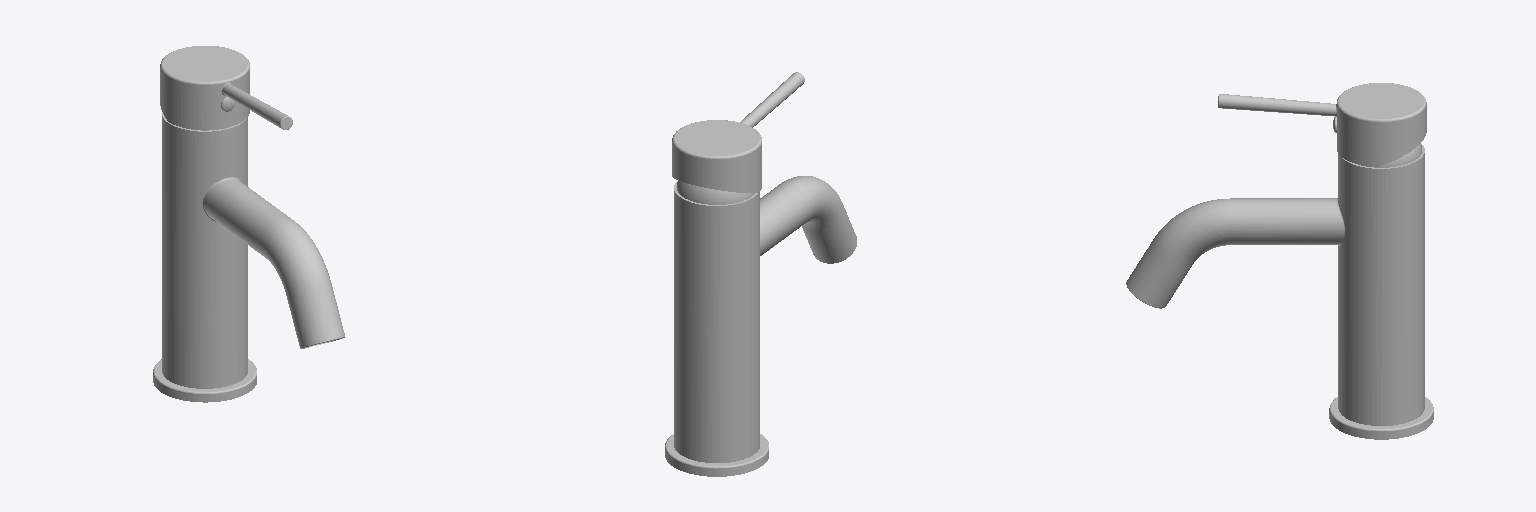
The picture shows the model from 3 angles: view 1: azimuth 30°, elevation 25°; view 2: azimuth 150°, elevation 25°; view 3: azimuth 270°, elevation 25°; orthographic projection.
Visible parts, largest first — view 1: MB03; view 2: MB03; view 3: MB03.
Boxes of the visible parts, <box> form: MB03: <box>153,46,344,402</box>; MB03: <box>665,72,856,476</box>; MB03: <box>1126,83,1433,439</box>.
Size of the model in its own units: 58 by 198 by 171.